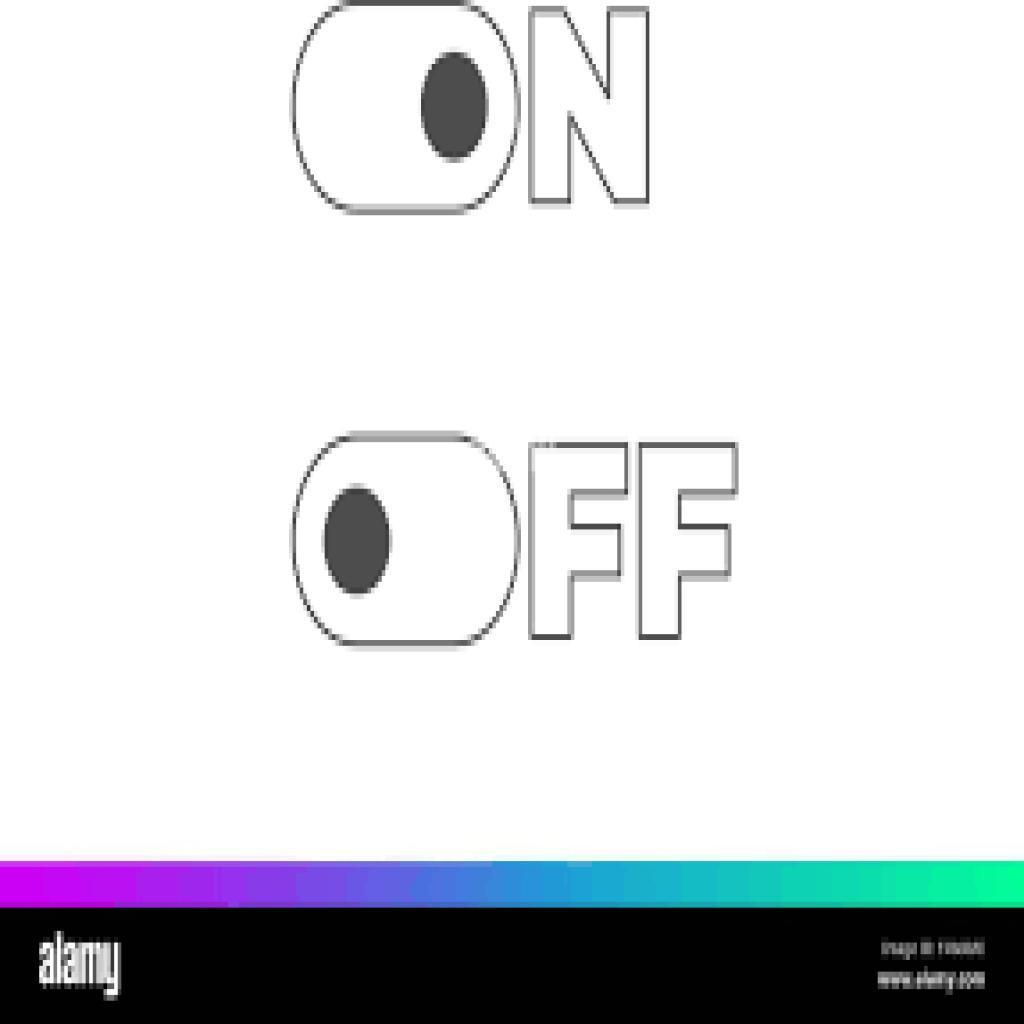switch: (285, 422, 525, 657), (291, 1, 525, 221)
